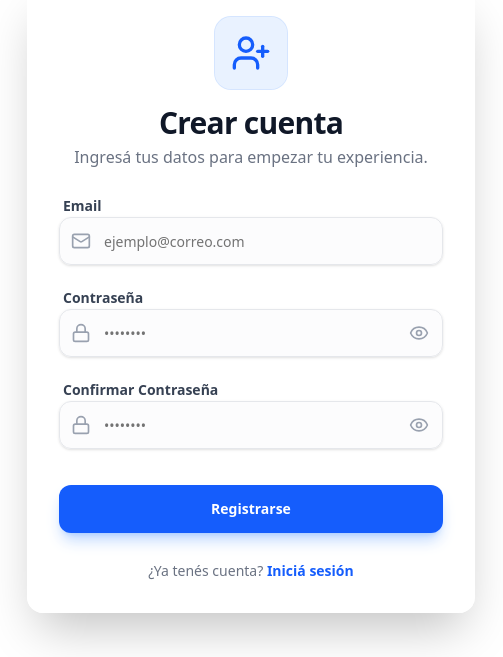
Scenario: Register Page › displays server validation error if register fails
Type "already@already.com" into the field labelled "Email" at (251, 241), box [59,217,443,265]
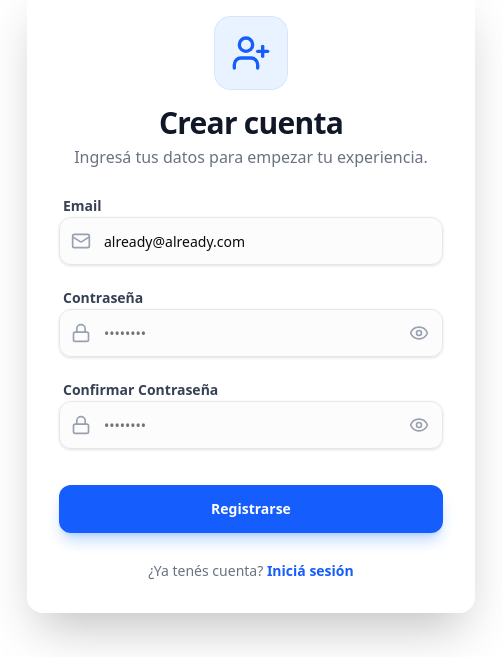
Type "Password123!" into the password field labelled "Contraseña" at (251, 333), box [59,309,443,357]
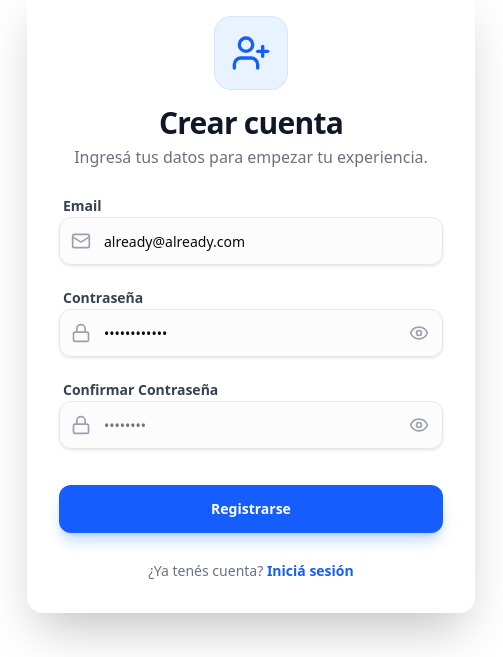
Type "Password123!" into the password field labelled "Confirmar Contraseña" at (251, 425), box [59,401,443,449]
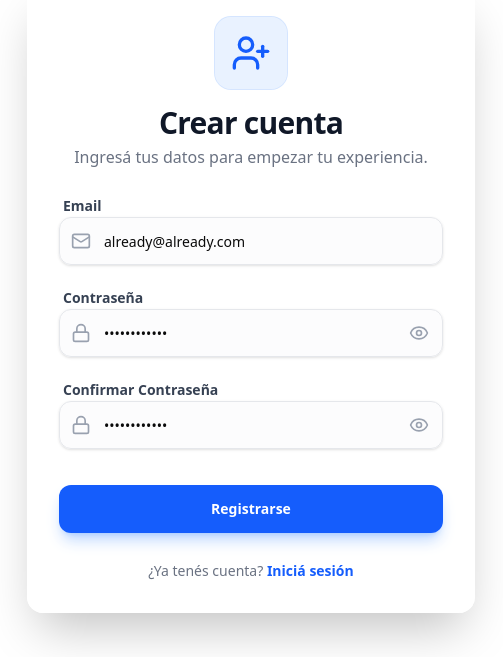
Click the button "Registrarse" at (251, 509), box [59,485,443,533]
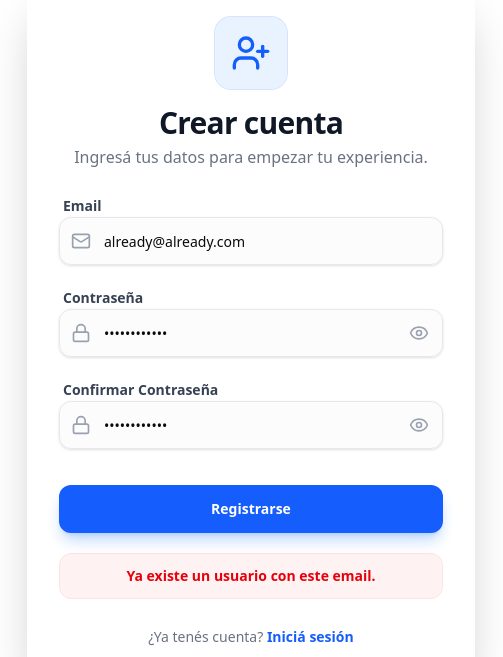
Check: the text "Ya existe un usuario con este email." is shown, box [126,566,376,585]
